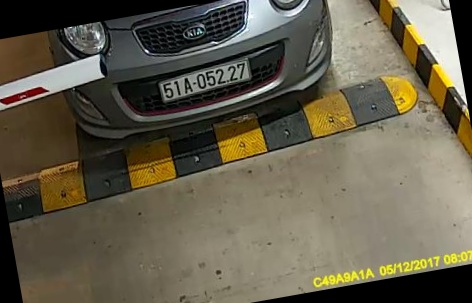plate: (155, 56, 254, 102)
